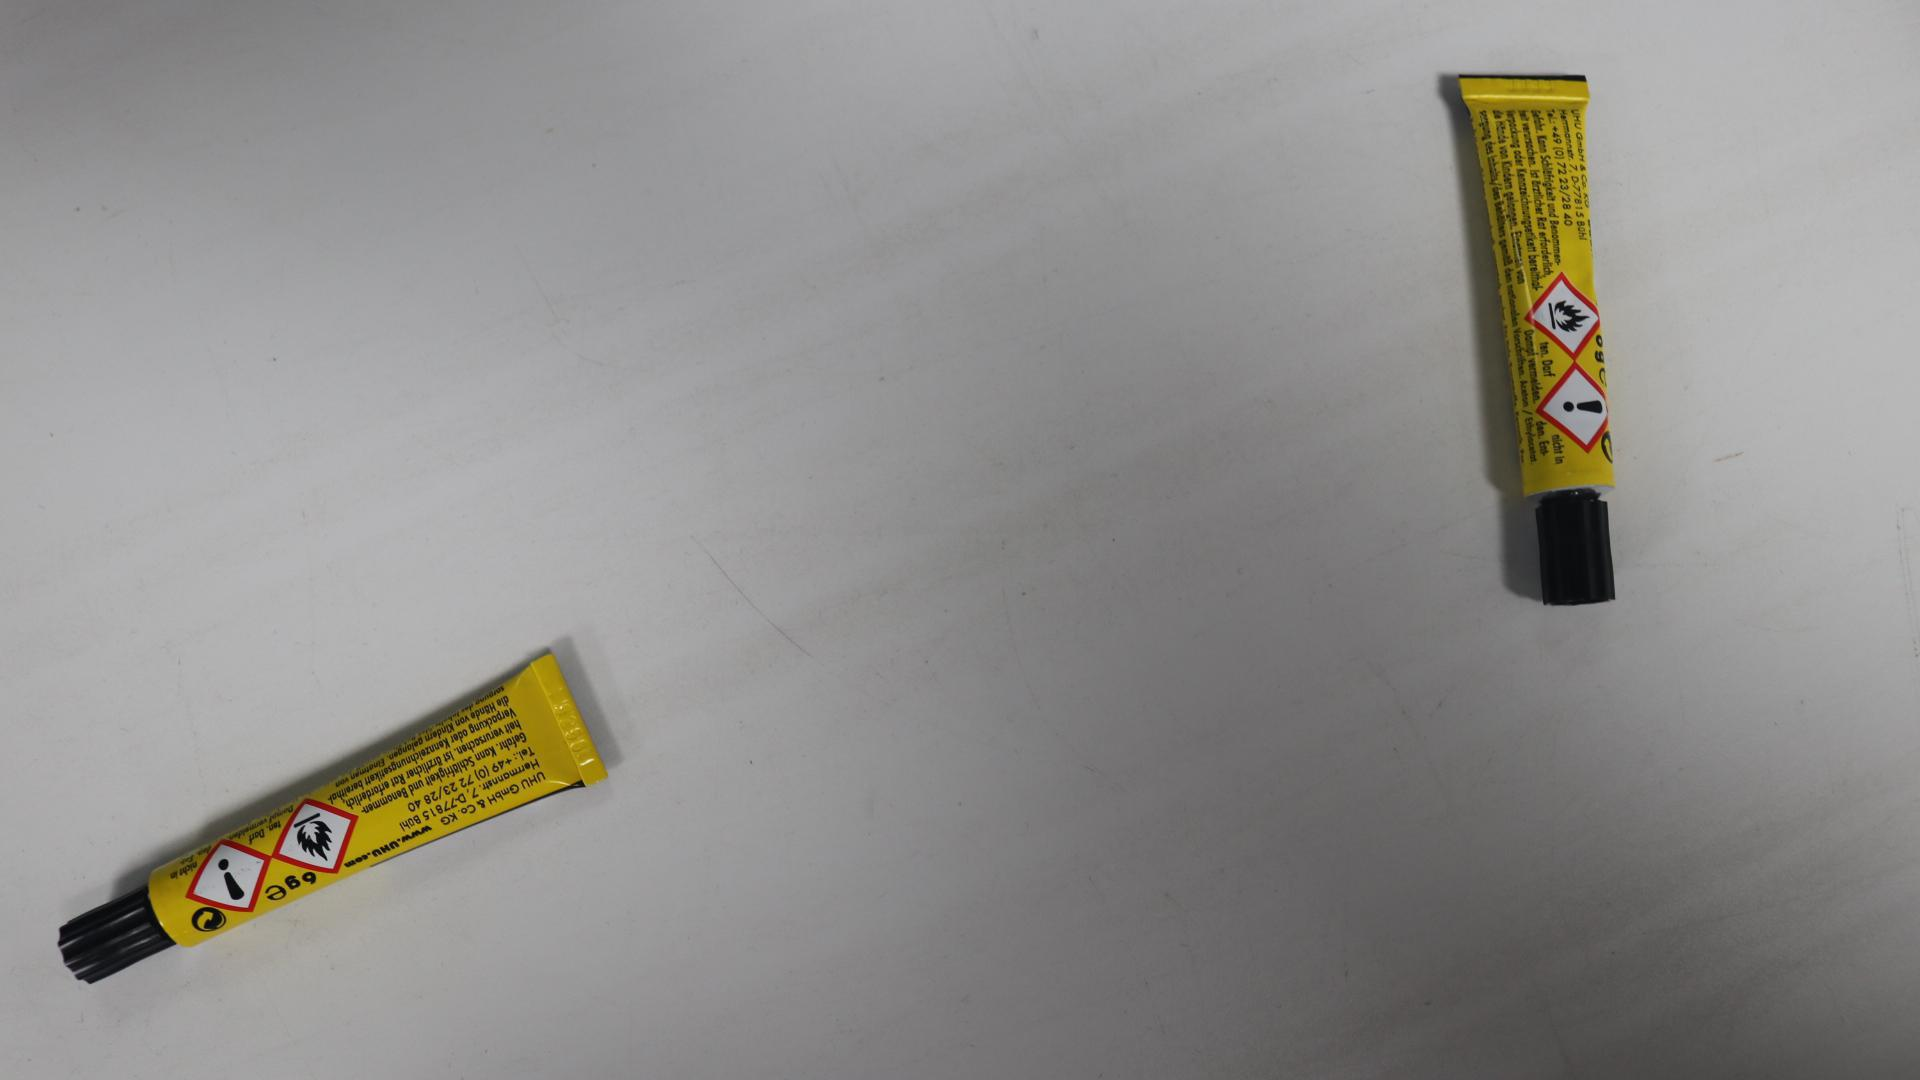Head: (103, 933, 118, 948), (1571, 541, 1582, 556)
Tail: (1520, 80, 1543, 99), (562, 713, 578, 733)
Tube: (58, 653, 608, 984), (1458, 72, 1619, 605)
